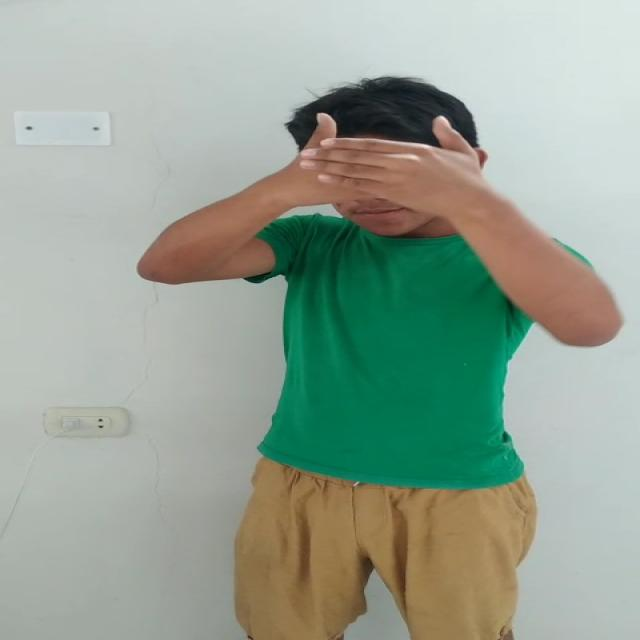7_mano_rostro: (298, 109, 556, 275)
